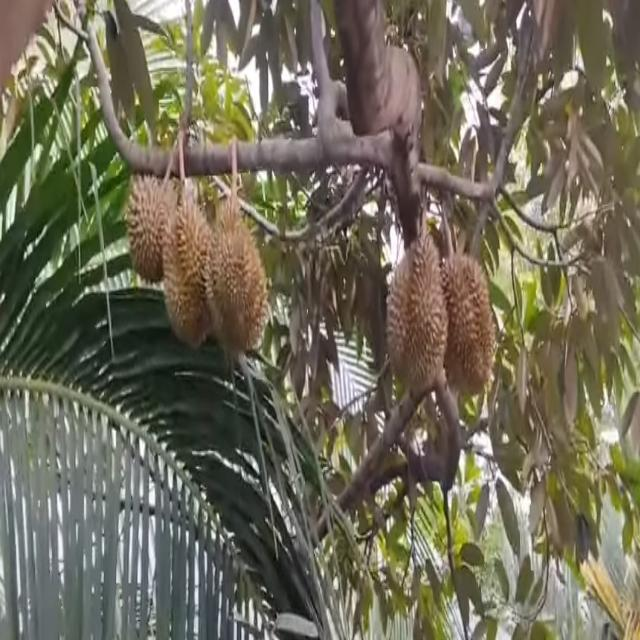mature: (207, 193, 270, 357), (432, 247, 498, 402), (386, 232, 449, 393), (160, 193, 216, 353), (129, 166, 177, 286)
